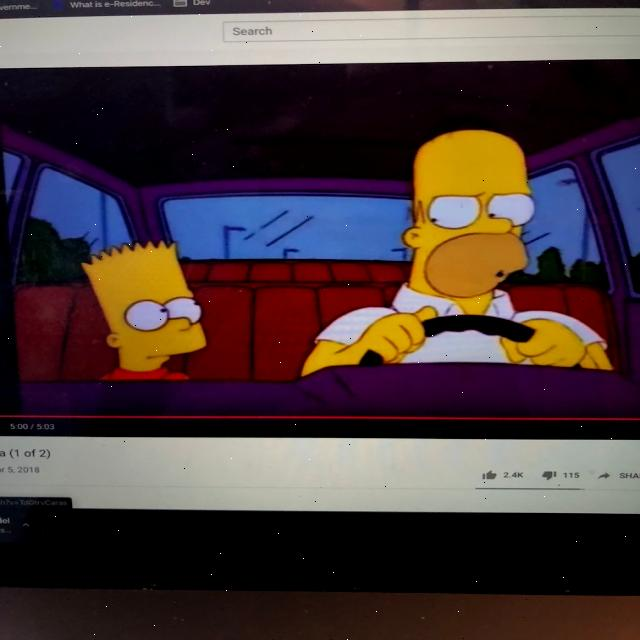Bart Simpson: (75, 235, 212, 376)
Homer Simpson: (398, 120, 540, 304)
